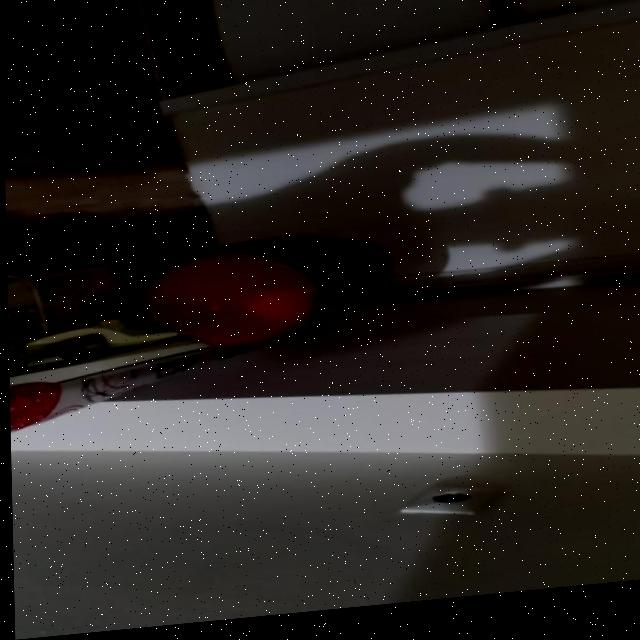balloon: (142, 252, 315, 363)
